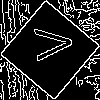V: (25, 25, 73, 63)
